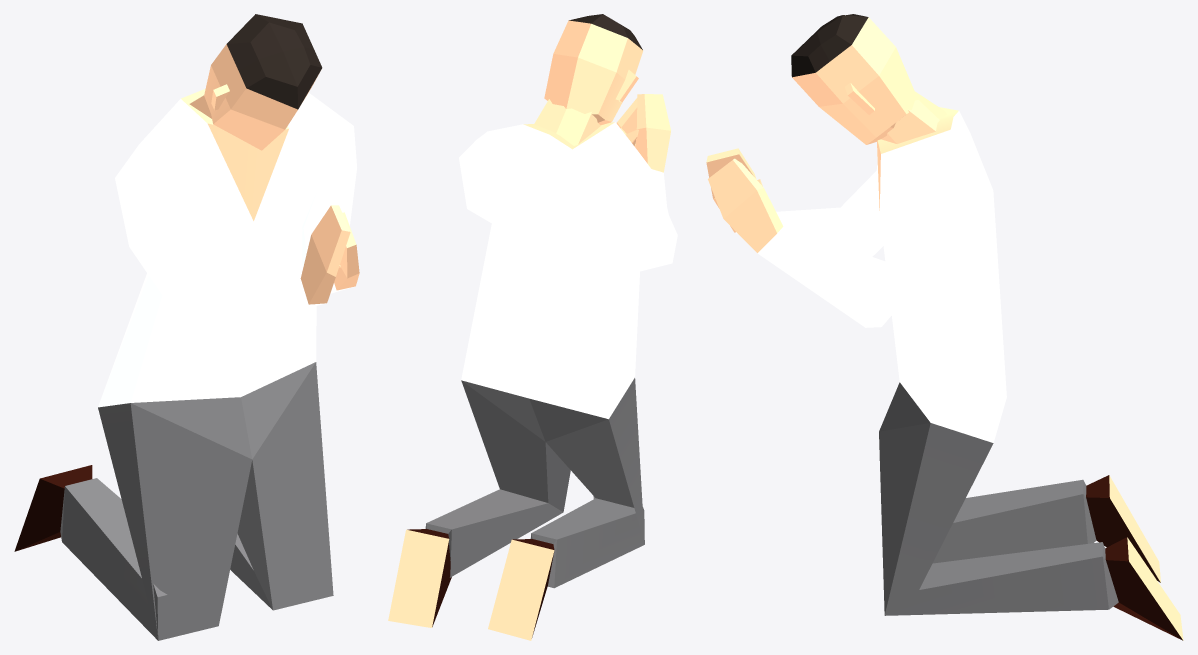
Rendered from ApologyMan2.fbx.
The picture shows the model from 3 angles, left to right: view 1: azimuth 30°, elevation 25°; view 2: azimuth 150°, elevation 25°; view 3: azimuth 270°, elevation 25°; orthographic projection. The views are drawn at different scales.
Parts seen in each view (by area): view 1: man04; view 2: man04; view 3: man04.
Part boxes in pixels (bbox=[...]): man04: bbox=[14, 14, 359, 640]; man04: bbox=[388, 14, 677, 640]; man04: bbox=[706, 14, 1183, 640].
Size of the model in its own units: 50.13 by 132 by 96.68.
